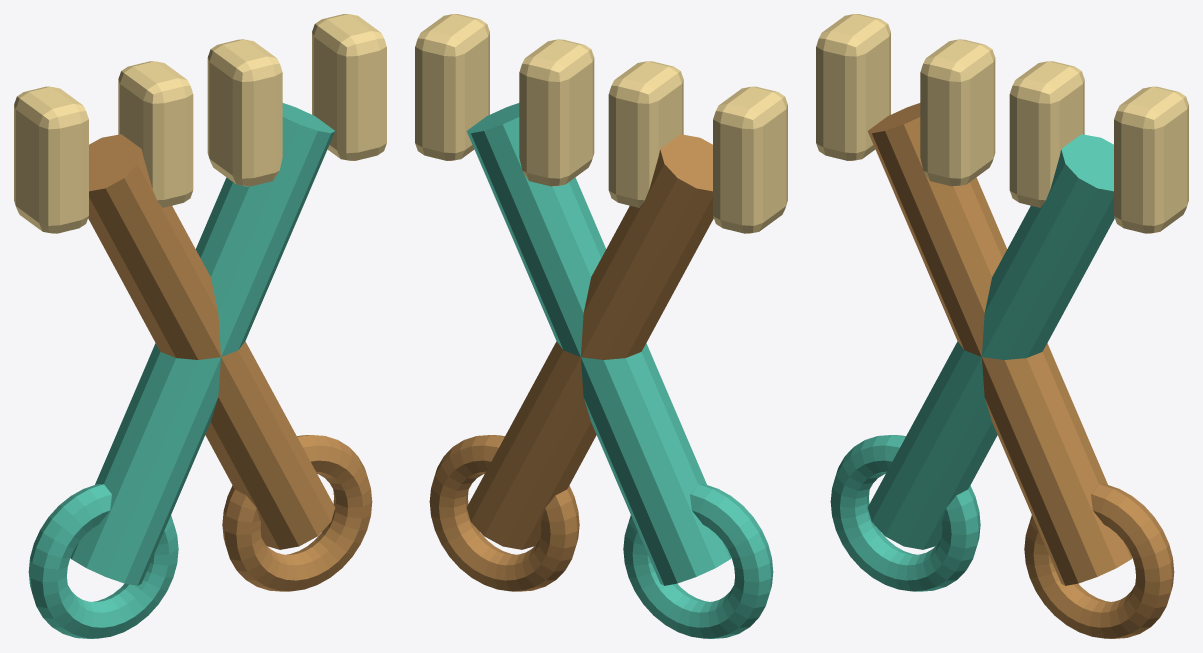
File: Item_duo_wrench.fbx
3 views of the same model, side by side, from view 1: azimuth 30°, elevation 25°; view 2: azimuth 150°, elevation 25°; view 3: azimuth 330°, elevation 25° (orthographic).
Visible parts, largest first — view 1: Item_duo_wrench.Mesh; view 2: Item_duo_wrench.Mesh; view 3: Item_duo_wrench.Mesh.
Boxes of the visible parts, bbox=[...] form: Item_duo_wrench.Mesh: bbox=[14, 14, 386, 638]; Item_duo_wrench.Mesh: bbox=[415, 14, 787, 638]; Item_duo_wrench.Mesh: bbox=[816, 14, 1188, 638].
Size of the model in its own units: 46.5 by 70.8 by 9.6.
